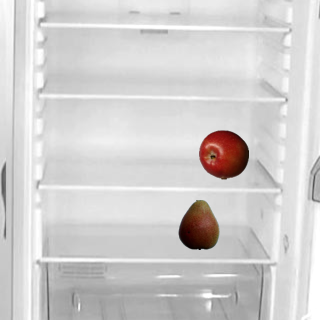Apple Braeburn: (198, 129, 248, 179)
Pear Forelle: (173, 199, 223, 249)
